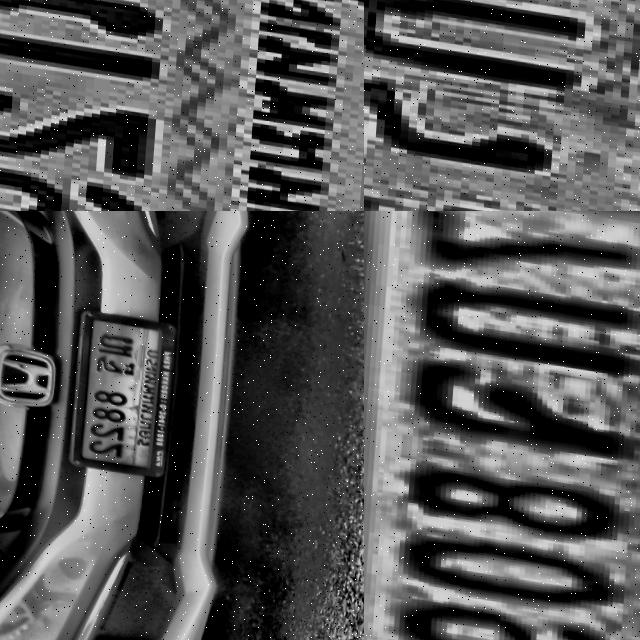license-plate: (364, 211, 640, 640), (0, 0, 364, 211), (364, 0, 640, 211), (68, 304, 170, 473)
